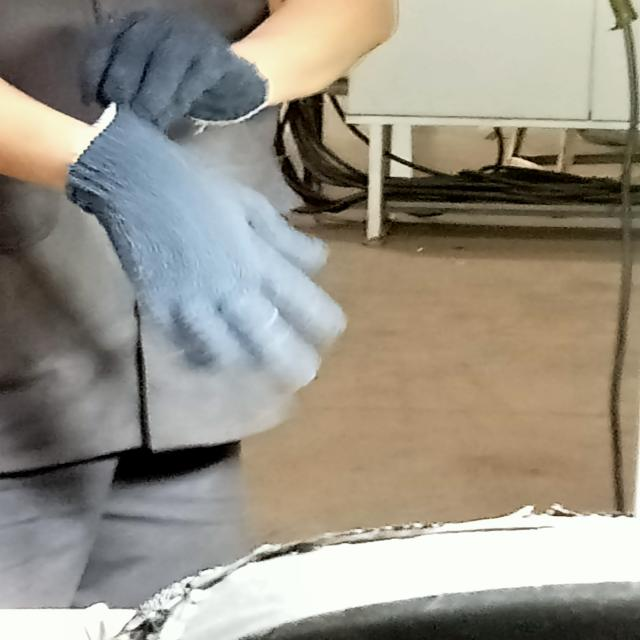Gloves-Detection: (77, 103, 345, 381), (105, 21, 232, 120)
